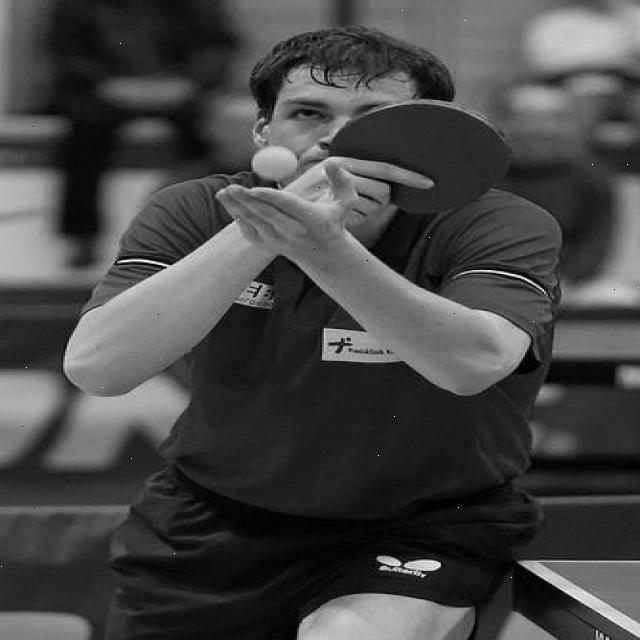ping-pong-ball: (254, 144, 298, 181)
